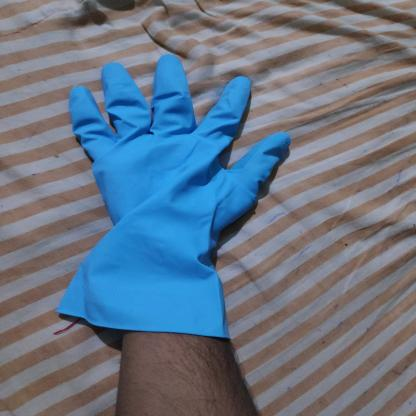gloved_hand: (58, 47, 292, 348)
